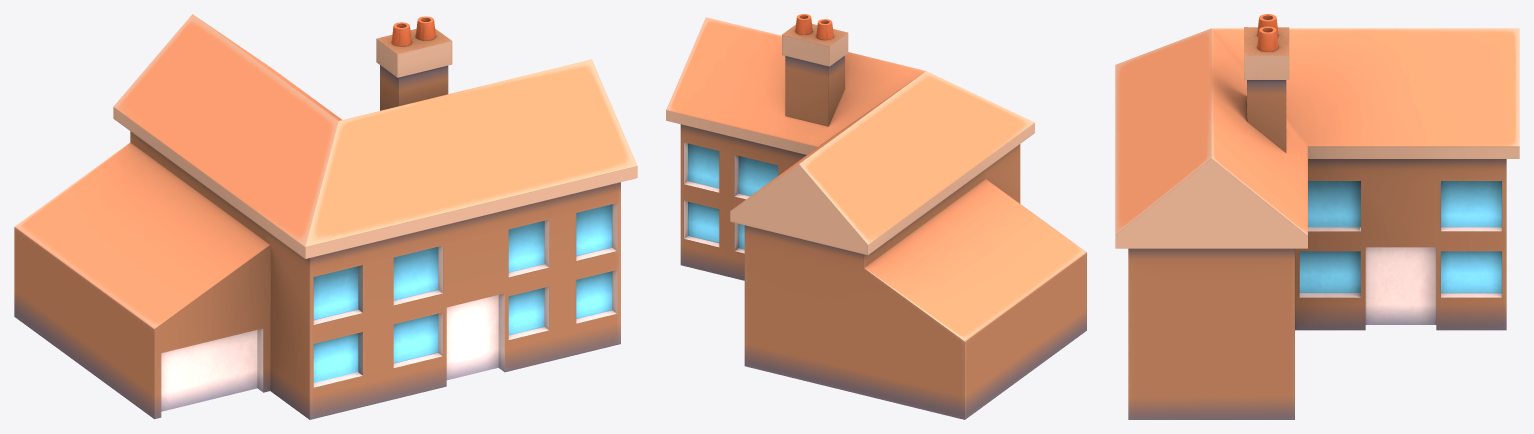
File: warehouse.glb
3 renders of one model, left to right at view 1: azimuth 30°, elevation 25°; view 2: azimuth 150°, elevation 25°; view 3: azimuth 270°, elevation 25°, orthographic. The views are drawn at different scales.
Parts seen in each view (by area): view 1: Object_2; view 2: Object_2; view 3: Object_2.
Part boxes in pixels (bbox=[...]): Object_2: bbox=[14, 14, 637, 419]; Object_2: bbox=[666, 14, 1086, 419]; Object_2: bbox=[1115, 14, 1519, 419].
Bounding box in the file's own units: 157 × 105 × 119.
Materials: 1 (1 with a texture image).
